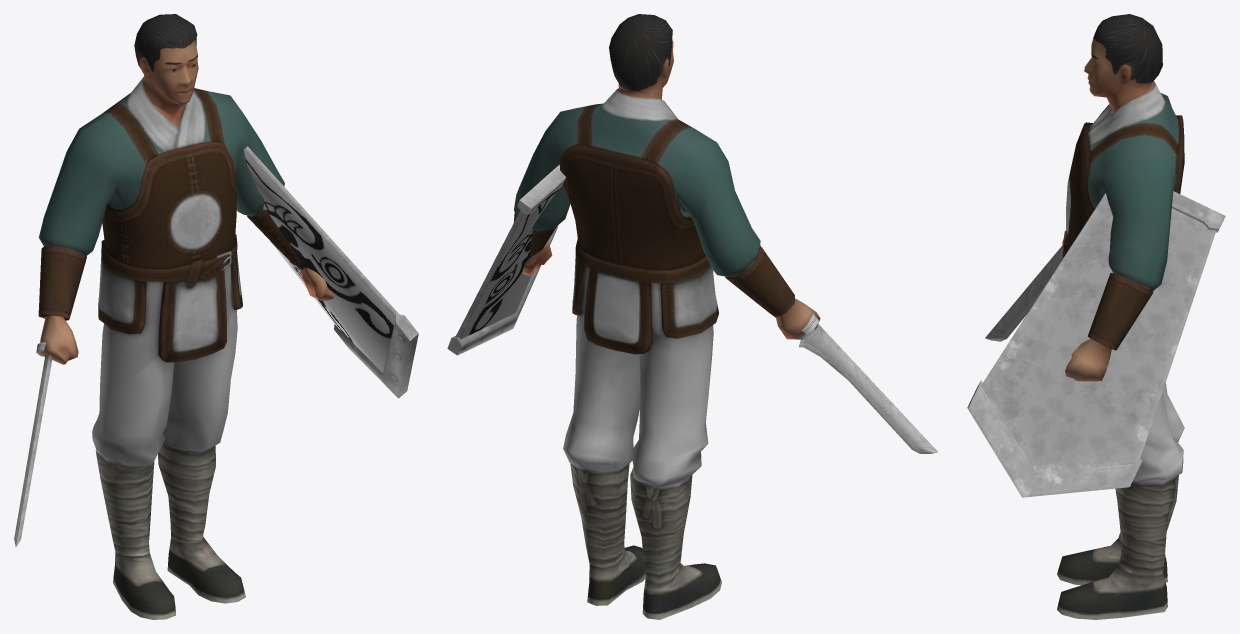
The model's file is 26-daoswordsman.glb.
3 renders of one model, left to right at view 1: azimuth 30°, elevation 25°; view 2: azimuth 150°, elevation 25°; view 3: azimuth 270°, elevation 25°, orthographic.
Bounding box in the file's own units: 1.57 × 2.08 × 0.8445.
3 materials, 3 textured.
